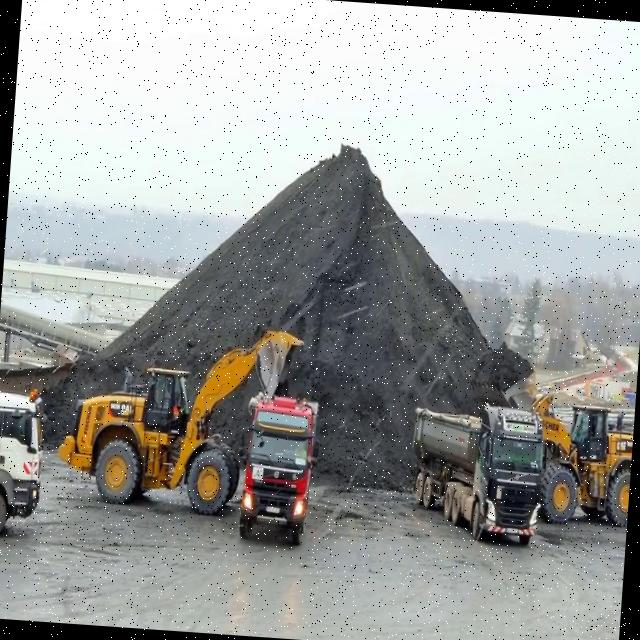Dump Truck: (402, 392, 548, 550), (233, 384, 322, 550)
Loader: (54, 314, 305, 524), (458, 358, 638, 530)
